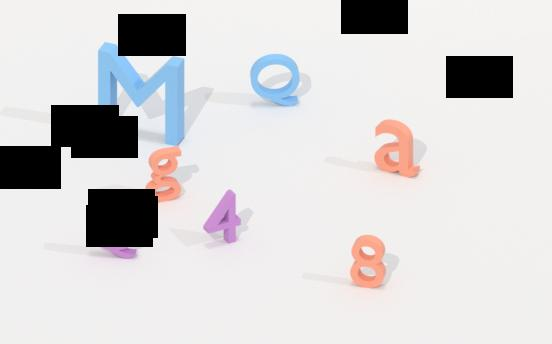4: (198, 186, 250, 248)
8: (347, 231, 392, 304)
M-hoa: (94, 37, 188, 150)
a: (370, 118, 422, 184)
q: (247, 47, 307, 112), (86, 204, 143, 265), (146, 140, 187, 206)
